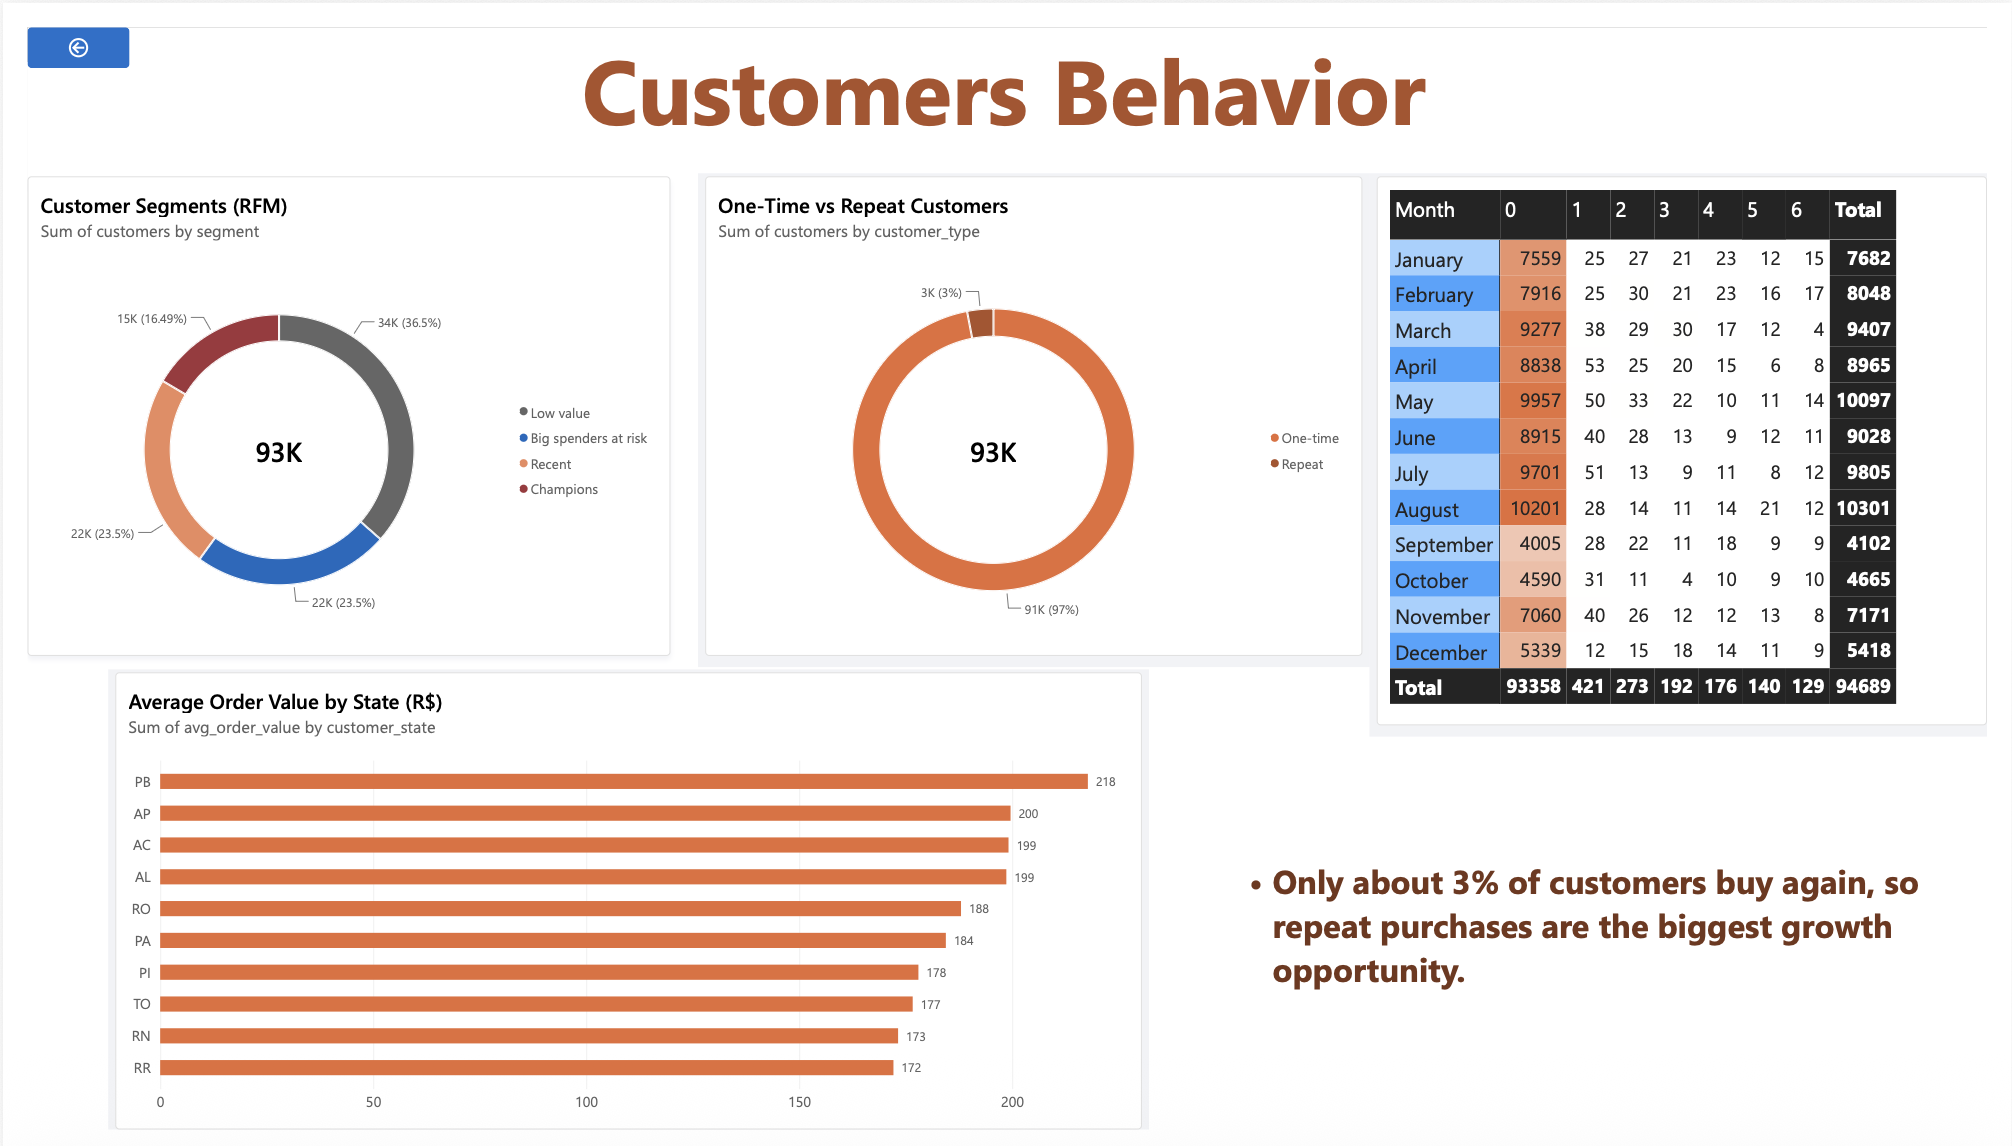

What the dashboard file says about the page in this screenshot:
{"tool":"powerbi","page":{"name":"Customer","canvas":[1920,1080],"ordinal":1},"visuals":[{"type":"donutChart","title":"Customer Segments (RFM)","fields":{"Category":["q07.segment"],"Y":["Sum(q07.customers)"]},"box":[0,146,630,470],"z":0},{"type":"pivotTable","title":"Customer Retention by Cohort (Months After First Purchase)","fields":{"Columns":["q08.months_since_first"],"Rows":["q08.cohort_month.Variation.Date Hierarchy.Month"],"Values":["Sum(q08.customers)"]},"box":[1322,146,598,538],"z":1000},{"type":"donutChart","title":"One-Time vs Repeat Customers","fields":{"Category":["q06.customer_type"],"Y":["Sum(q06.customers)"]},"box":[664,146,644,470],"z":2000},{"type":"clusteredBarChart","title":"Average Order Value by State (R$)","fields":{"Category":["q05.customer_state"],"Y":["Sum(q05.avg_order_value)"]},"box":[86,632,1006,448],"z":3000},{"type":"actionButton","box":[0,0,100,40],"z":4000},{"type":"textbox","box":[0,0,1914,146],"z":5000},{"type":"textbox","box":[1172,814,682,266],"z":5001}]}

Visuals, with their boxes in screenshot pixels (x1, y1, x2, y2), scaled from the page's 1920x1080 canvas onto the 2012x1146 screenshot:
"Customer Segments (RFM)" donutChart: rect(0, 155, 660, 654)
"Customer Retention by Cohort (Months After First Purchase)" pivotTable: rect(1385, 155, 2011, 726)
"One-Time vs Repeat Customers" donutChart: rect(696, 155, 1371, 654)
"Average Order Value by State (R$)" clusteredBarChart: rect(90, 671, 1144, 1145)
actionButton: rect(0, 0, 105, 42)
textbox: rect(0, 0, 2006, 155)
textbox: rect(1228, 864, 1943, 1145)
